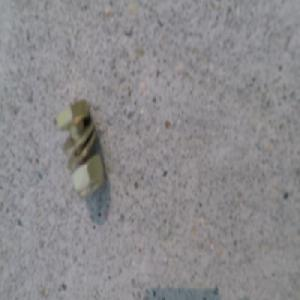BoltNutSet: (57, 98, 103, 196)
